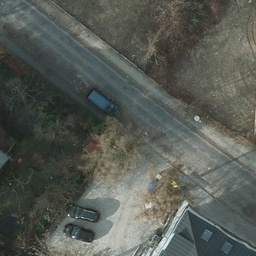car: (86, 90, 120, 115), (67, 203, 99, 222), (64, 223, 96, 242)
